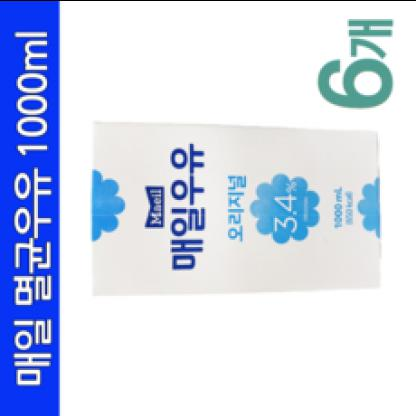tetra: (79, 108, 397, 316)
